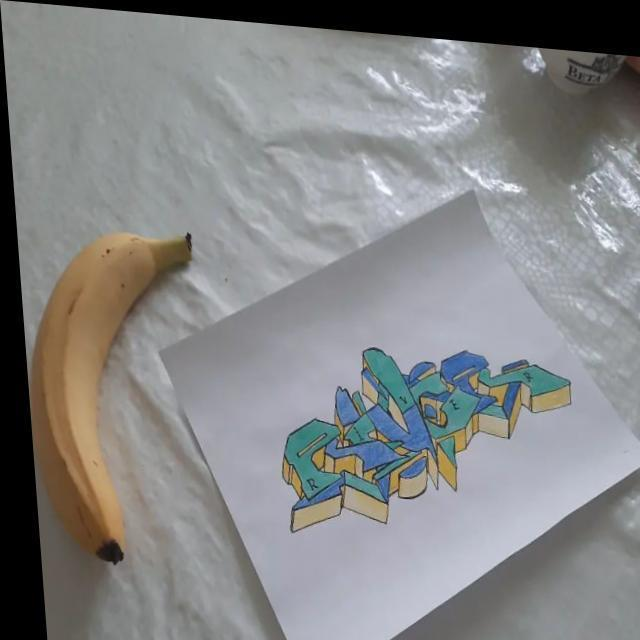nonspitting: (283, 345, 574, 533)
